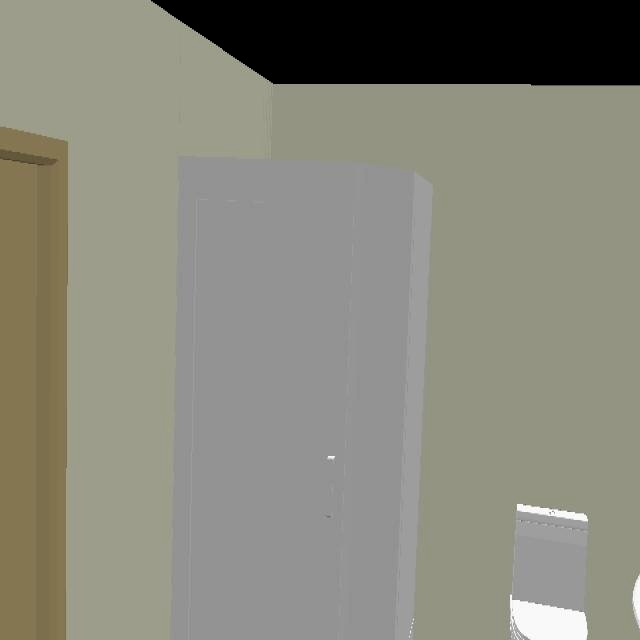shower: (169, 156, 436, 640)
toilet: (511, 506, 589, 640)
